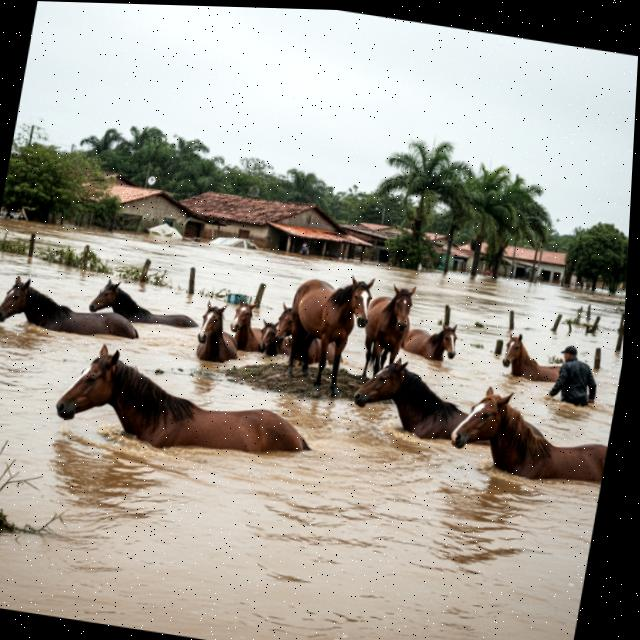civilian: (542, 340, 613, 414)
horse: (45, 337, 333, 474), (345, 343, 550, 461), (432, 380, 616, 502), (274, 265, 376, 404), (0, 272, 151, 354), (353, 276, 428, 390), (83, 276, 196, 335), (268, 300, 353, 372), (491, 332, 574, 391), (189, 301, 243, 370), (386, 317, 462, 364), (220, 293, 273, 354), (248, 315, 301, 365)
